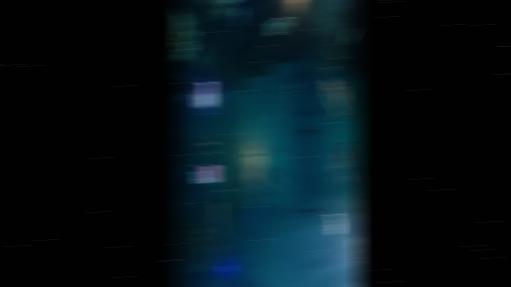Fish: (324, 77, 349, 121), (266, 18, 293, 35), (338, 142, 353, 167), (331, 149, 346, 170), (325, 213, 340, 234), (335, 169, 350, 186), (342, 27, 355, 44), (300, 209, 323, 217), (234, 7, 243, 26), (258, 187, 271, 200), (265, 97, 276, 111), (257, 91, 266, 107), (354, 165, 361, 185), (288, 81, 297, 96), (259, 175, 270, 187), (265, 168, 276, 178), (242, 8, 257, 15), (270, 80, 279, 91), (257, 73, 266, 82), (257, 91, 266, 100), (257, 98, 266, 107), (267, 75, 276, 84), (248, 81, 254, 93), (176, 127, 185, 135), (308, 201, 317, 208), (268, 119, 277, 126), (301, 208, 321, 211), (249, 98, 258, 104), (301, 129, 314, 132), (299, 197, 308, 201)
